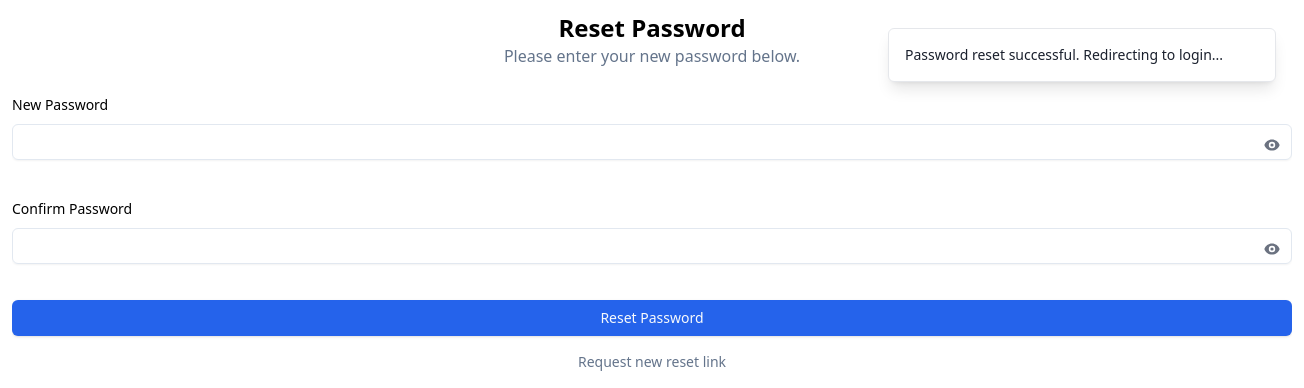
Scenario: Presentation > Features > Auth > ResetPasswordForm › should show validation error for weak password
Type "weak" into the password field with test id "password-input".
click(652, 142); type("weak")  # box [12,124,1292,160]
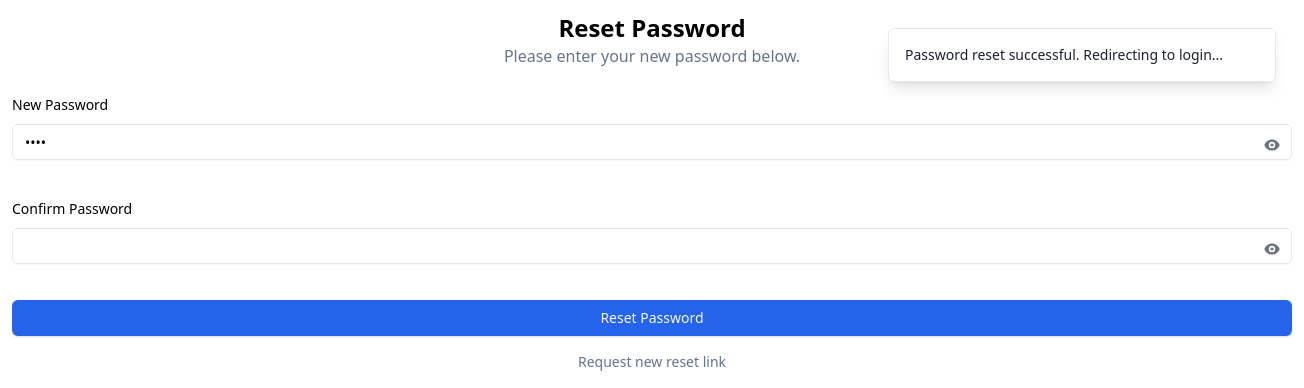
Type "weak" into the password field with test id "confirm-password-input".
click(652, 246); type("weak")  # box [12,228,1292,264]
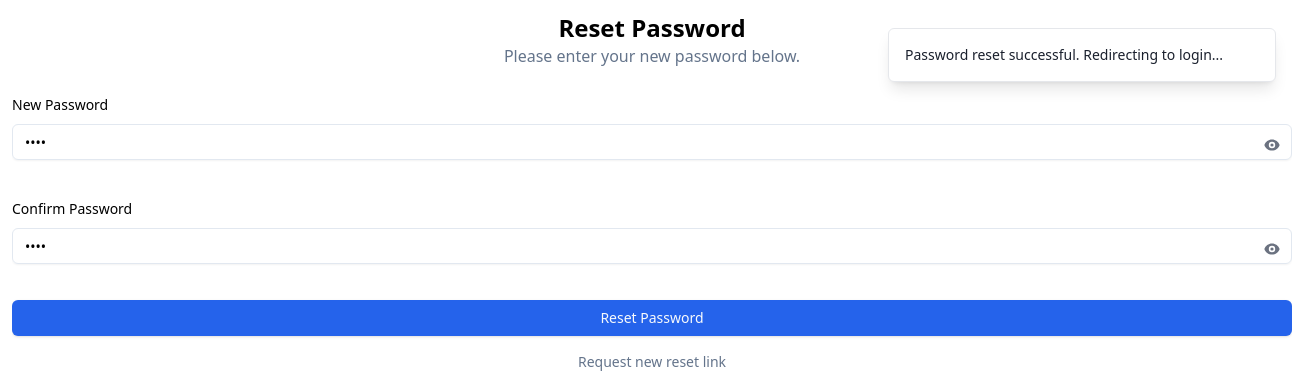
Click the button "Reset Password".
click(652, 318)  # box [12,300,1292,336]
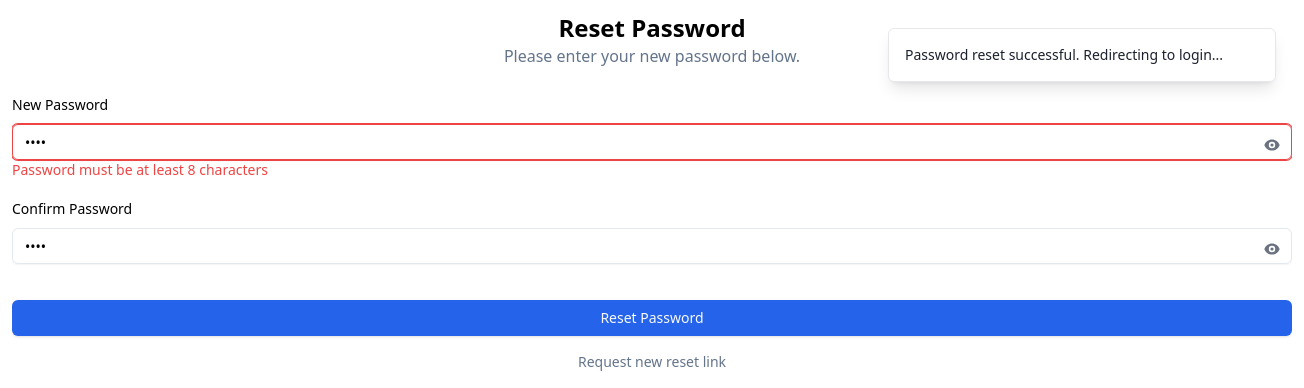
Expected: the text "Password must be at least 8 characters" is shown, [12,160,268,179]
